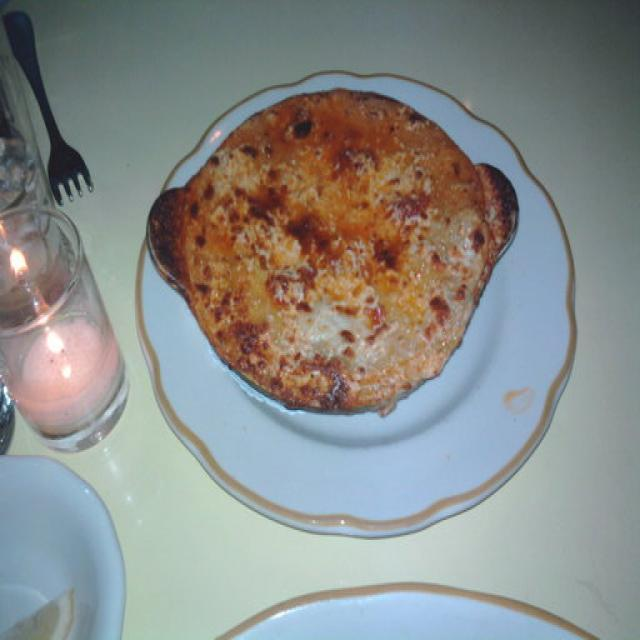Lasagna: (143, 75, 542, 407)
